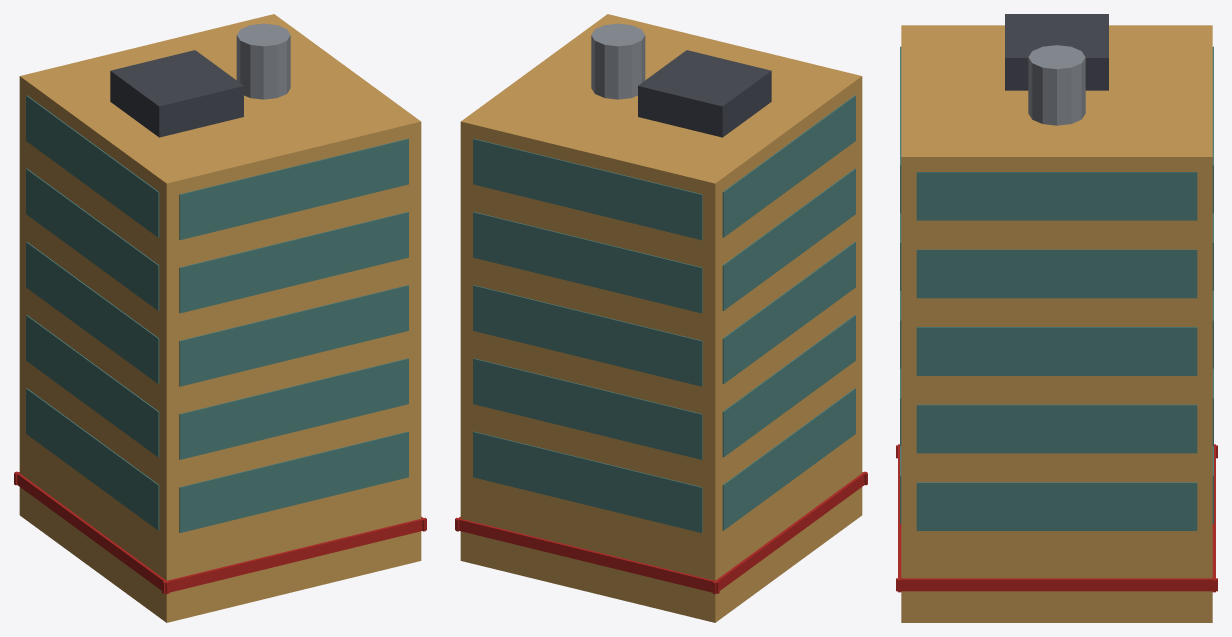
Rendered from highrise_b.obj.
3 views of the same model, side by side, from view 1: azimuth 30°, elevation 25°; view 2: azimuth 150°, elevation 25°; view 3: azimuth 270°, elevation 25° (orthographic). The views are drawn at different scales.
Parts seen in each view (by area): view 1: Cone; view 2: Cone; view 3: Cone.
Part boxes in pixels (x1,y1,x2,y2): Cone: (14, 14, 426, 622); Cone: (455, 14, 867, 622); Cone: (896, 14, 1217, 622).
Size of the model in its own units: 12.4 by 22.2 by 12.4.
